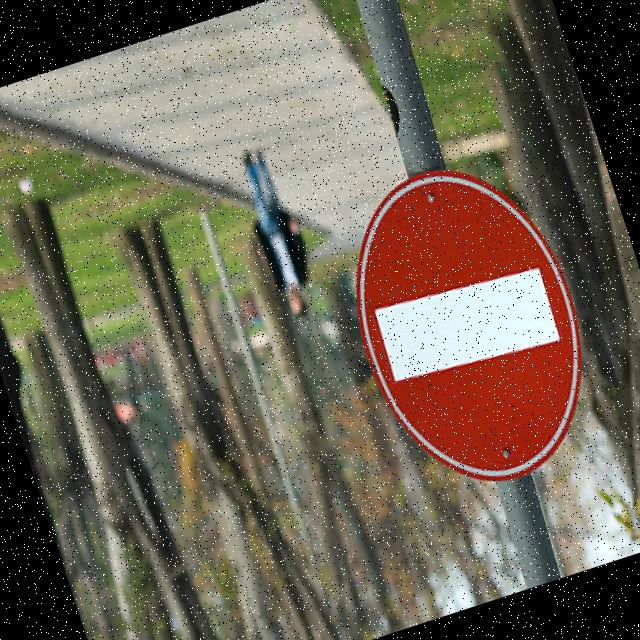do_not_enter: (306, 133, 622, 516)
